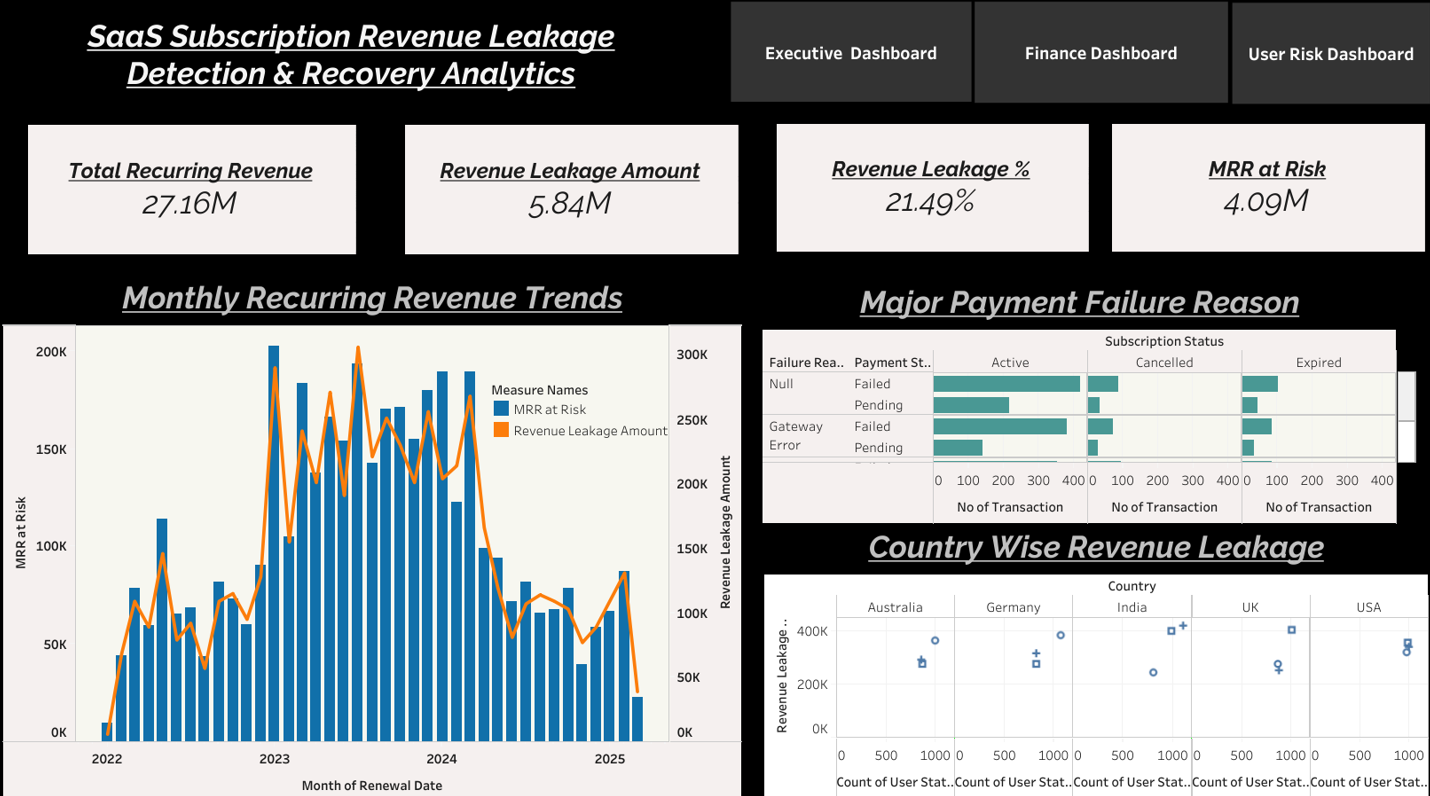

This screenshot's page, from the dashboard's own definition file:
{"tool":"tableau","page":{"name":"Excecutive Dashboard","canvas":[1366,768],"ordinal":0},"visuals":[{"type":"dashboard-object","box":[697,11,226,94]},{"type":"dashboard-object","box":[926,11,238,95]},{"type":"dashboard-object","box":[1168,12,186,95]},{"type":"title","box":[24,13,633,93]},{"type":"worksheet","title":"KPI Materics (3)","mark":"Automatic","box":[740,126,292,119]},{"type":"worksheet","title":"KPI Materics (4)","mark":"Automatic","box":[1055,126,293,119]},{"type":"worksheet","title":"KPI Materics","mark":"Automatic","box":[37,127,307,121]},{"type":"worksheet","title":"KPI Materics (2)","mark":"Automatic","box":[391,127,312,121]},{"type":"worksheet","title":"Monthly Recurring Revenue Trends","mark":"Automatic","rows":["Calculation_0001057944346641","Calculation_0001126268715109"],"cols":["renewal_date"],"box":[13,265,695,499]},{"type":"worksheet","title":"Major Payment Failure Reason","mark":"Automatic","rows":["failure_reason","payment_status"],"cols":["subscription_status","payment_status"],"box":[727,269,615,233]},{"type":"legend","title":"Monthly Recurring Revenue Trends","param":"[federated.1gl76tm1dfydtg106zycz1id6sig].[:Measure Names]","box":[471,364,172,59]},{"type":"worksheet","title":"Country Wise Revenue Leakage","mark":"Shape","rows":["Calculation_0001126268715109"],"cols":["country","user_status"],"box":[728,499,625,261]}]}

Visuals, with their boxes in screenshot pixels (x1, y1, x2, y2), scaled from the page's 1366x768 canvas onto the 1430x796 screenshot:
dashboard-object: box(730, 11, 966, 109)
dashboard-object: box(969, 11, 1219, 110)
dashboard-object: box(1223, 12, 1417, 111)
title: box(25, 13, 688, 110)
"KPI Materics (3)" worksheet: box(775, 131, 1080, 254)
"KPI Materics (4)" worksheet: box(1104, 131, 1411, 254)
"KPI Materics" worksheet: box(39, 132, 360, 257)
"KPI Materics (2)" worksheet: box(409, 132, 736, 257)
"Monthly Recurring Revenue Trends" worksheet: box(14, 275, 741, 792)
"Major Payment Failure Reason" worksheet: box(761, 279, 1405, 520)
"Monthly Recurring Revenue Trends" legend: box(493, 377, 673, 438)
"Country Wise Revenue Leakage" worksheet (Shape marks): box(762, 517, 1416, 788)
